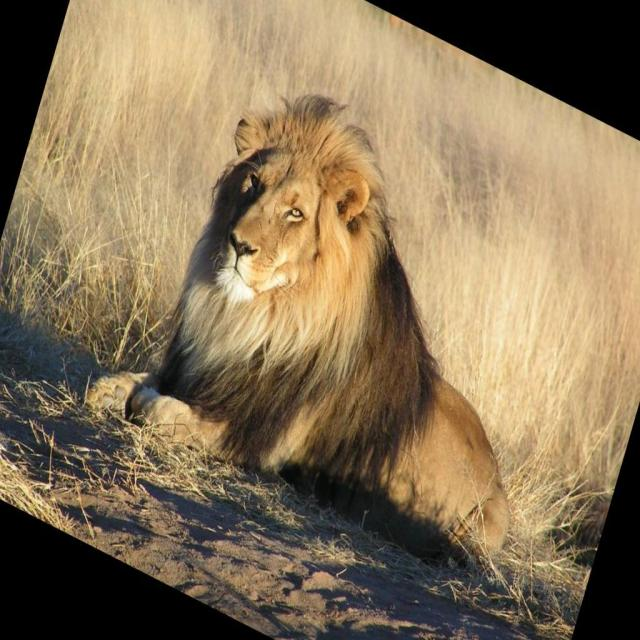Lion: (79, 22, 595, 610)
